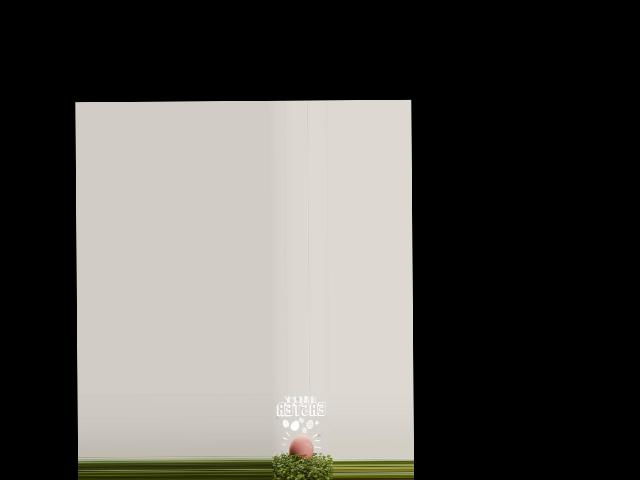egg: (288, 435, 312, 459)
